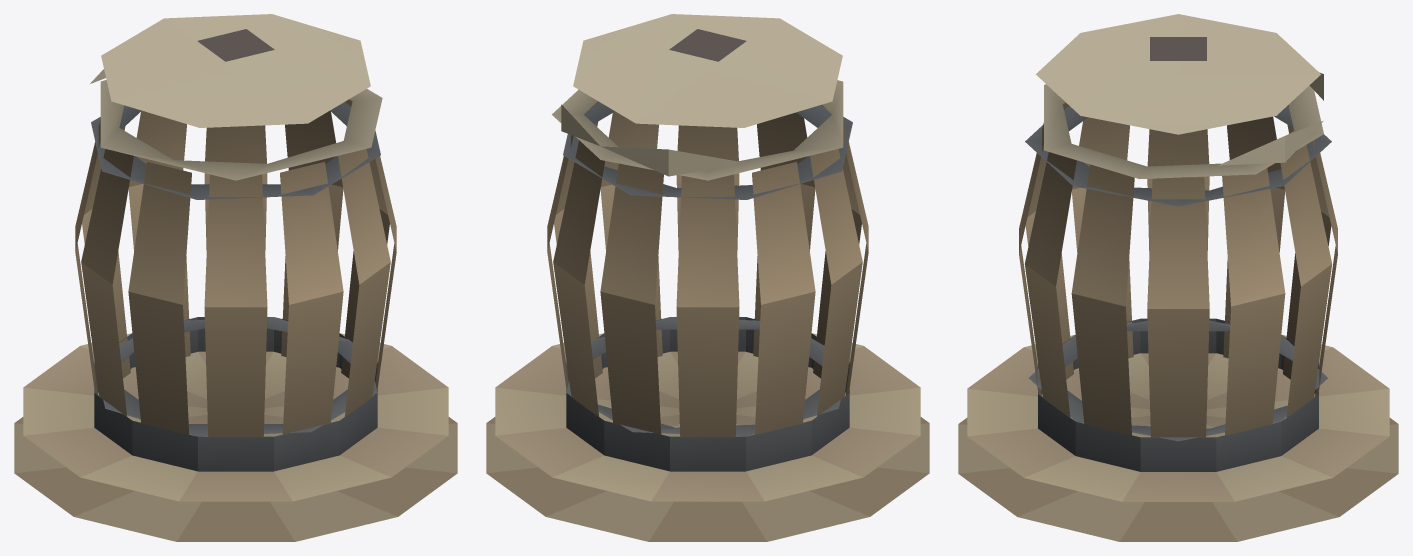
File: capstan.lod.glb
3 renders of one model, left to right at view 1: azimuth 30°, elevation 25°; view 2: azimuth 150°, elevation 25°; view 3: azimuth 270°, elevation 25°, orthographic.
Parts seen in each view (by area): view 1: capstan; view 2: capstan; view 3: capstan.
Boxes of the visible parts, x1,y1,x2,y2 form: capstan: (14,14,457,541); capstan: (486,14,929,541); capstan: (958,14,1398,541).
Bounding box in the file's own units: 1.1 × 1.1 × 1.1.
